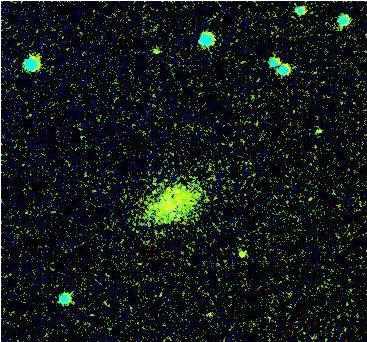star: (228, 238, 258, 268)
